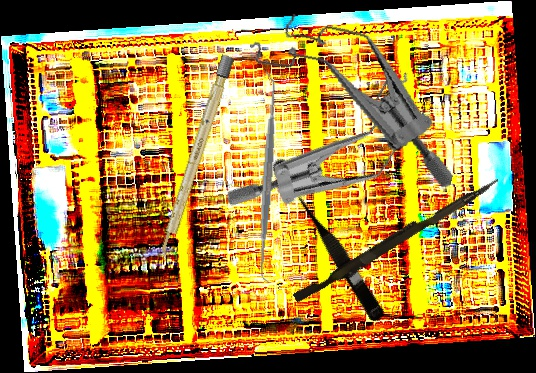Micro Scissor: (288, 183, 391, 325)
Pusher: (292, 169, 501, 309)
Scalpel Handle: (156, 53, 235, 262)
Spatula Surgical: (248, 69, 286, 284)
Speculum: (222, 25, 440, 267), (228, 3, 482, 190)
